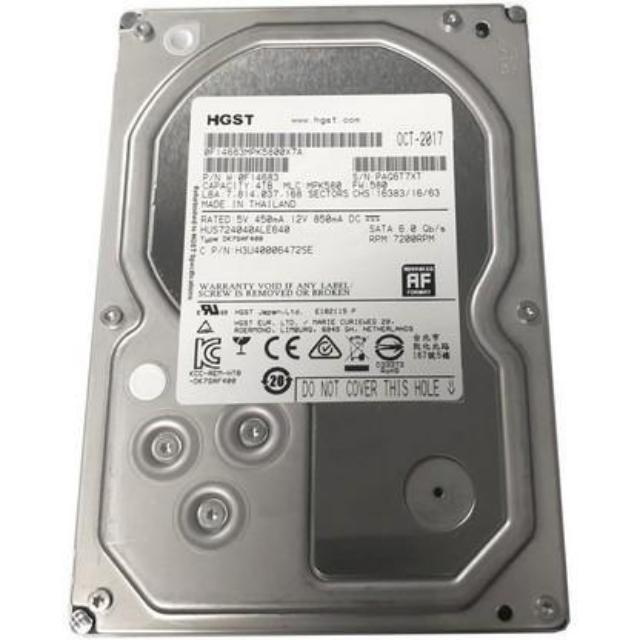DISK: (64, 0, 570, 640)
